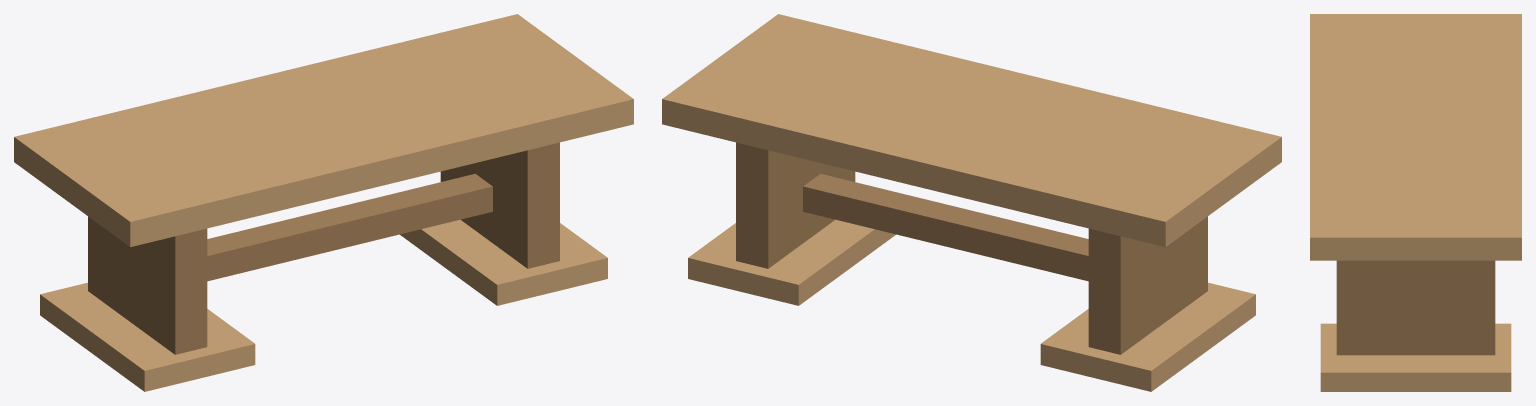
The model's file is trestle-table.glb.
The picture shows the model from 3 angles, left to right: view 1: azimuth 30°, elevation 25°; view 2: azimuth 150°, elevation 25°; view 3: azimuth 270°, elevation 25°; orthographic projection. The views are drawn at different scales.
Visible parts, largest first — view 1: trestle-table; view 2: trestle-table; view 3: trestle-table.
Boxes of the visible parts, box(x1,y1,x2,y2) form: trestle-table: box(14, 14, 633, 391); trestle-table: box(662, 14, 1281, 391); trestle-table: box(1310, 14, 1521, 391).
Bounding box in the file's own units: 2.5 × 0.8501 × 0.9999.
